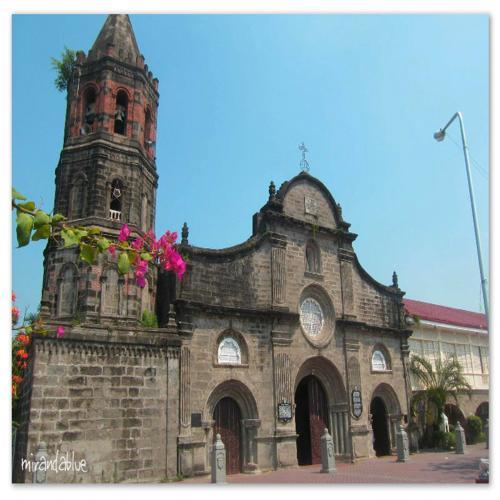Barasoain Church: (15, 19, 414, 470)
